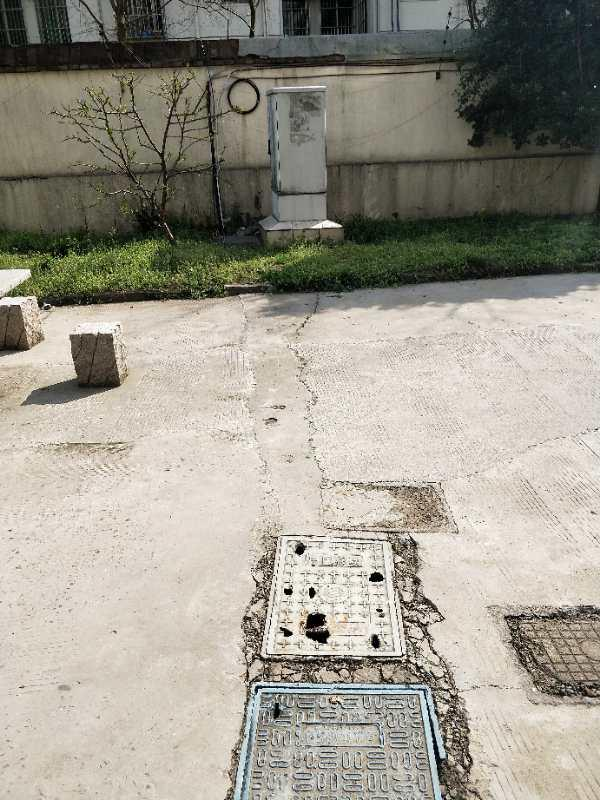wellcover: (215, 665, 495, 800), (228, 513, 424, 682), (475, 582, 600, 698), (300, 456, 472, 539)
